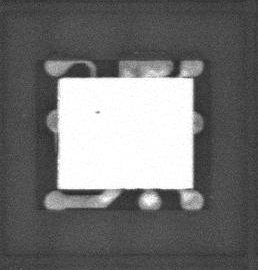DIE_INK: (90, 115, 97, 119)
